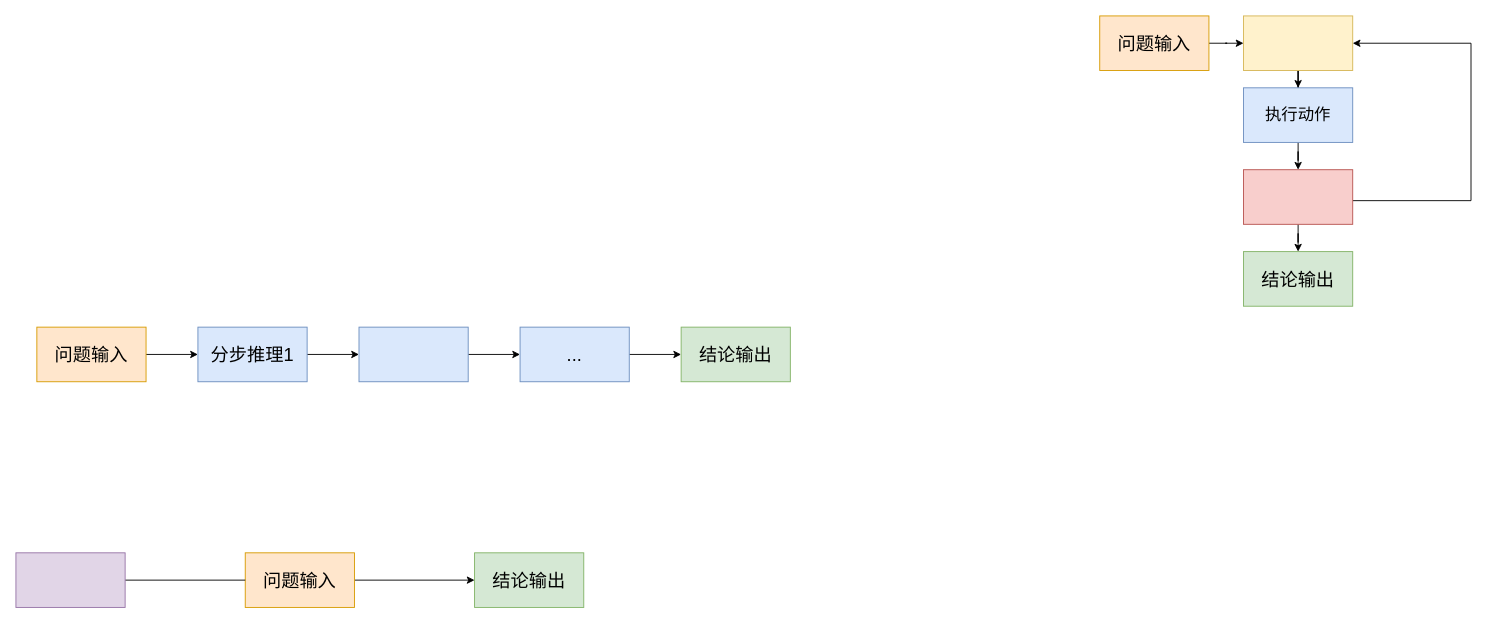
Some shapes in this 1494 by 623 pixel diagram are drawn without their labels. Each missing label, with the box of its shape:
上下文示例集: (15, 552, 125, 607)
分步推理2: (358, 326, 468, 382)
观察: (1243, 169, 1353, 224)
规划: (1243, 15, 1353, 71)
